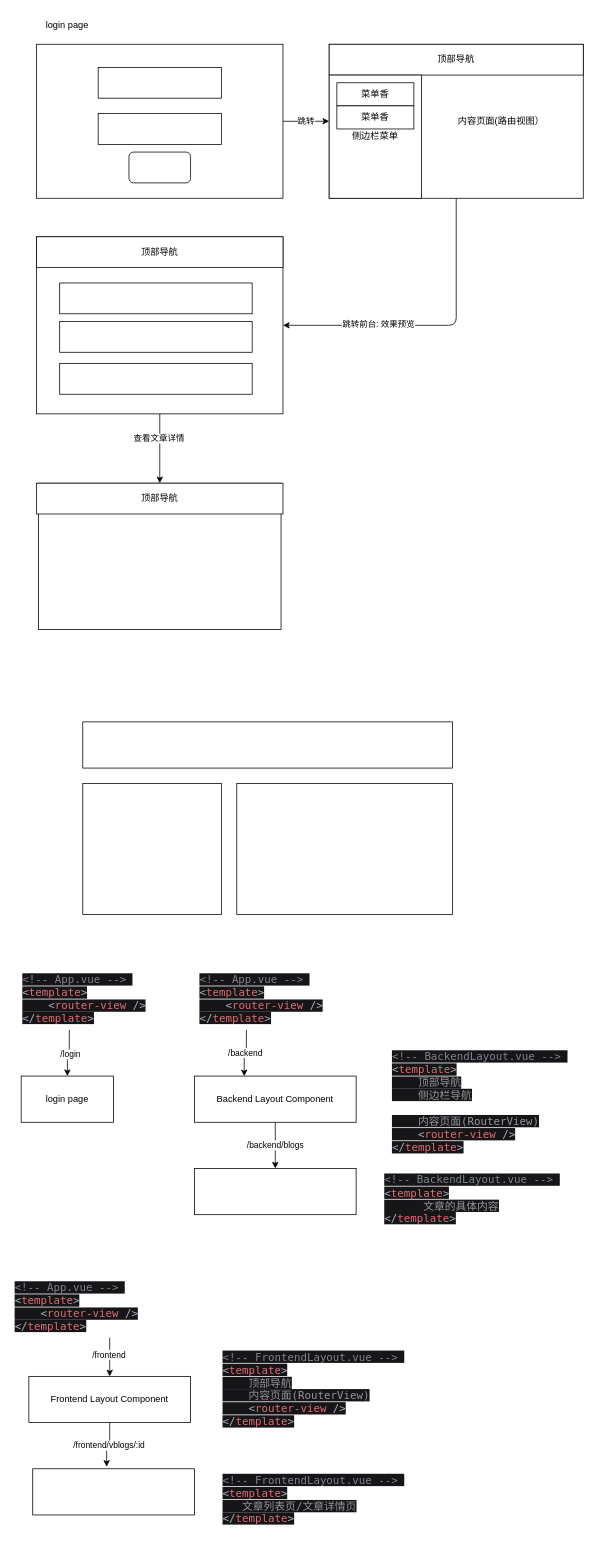
The diagram is 597 pixels wide and 1551 high, and some of its shapes have lost their labels. Here are the shapes that lost their labels. From the top down, the box of each, then its label:
(128, 151, 191, 183): 登录
(38, 482, 281, 629): Markdown 文章渲染页面(页面路由)
(236, 783, 452, 914): page
(194, 1168, 356, 1215): 文章管理
(32, 1468, 194, 1515): 文章Page页面
